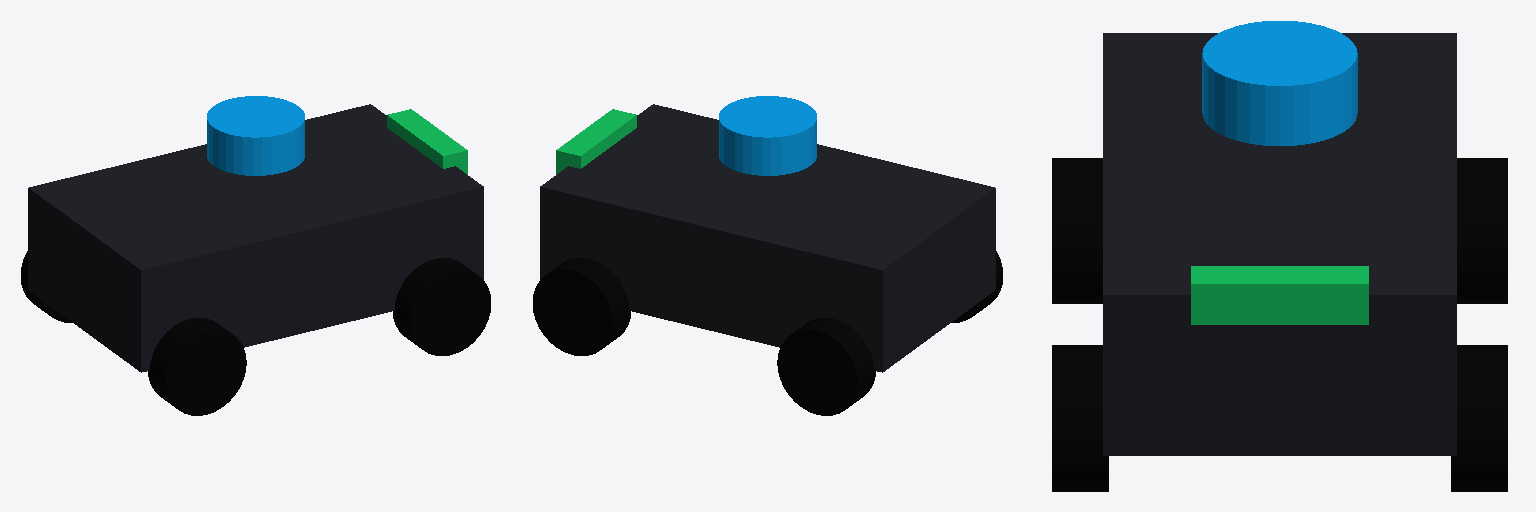
The robot description file, URDF, robot "sulg_robot":
<?xml version="1.0"?>
<robot name="sulg_robot">

  <!-- Base Footprint (Ground Projection) -->
  <link name="base_footprint"/>

  <joint name="base_joint" type="fixed">
    <parent link="base_footprint"/>
    <child link="base_link"/>
    <origin xyz="0 0 0.033" rpy="0 0 0"/>
  </joint>

  <!-- Chassis Body (Base Link centered at rear axle) -->
  <link name="base_link">
    <visual>
      <origin xyz="0.10 0 0.04" rpy="0 0 0"/>
      <geometry>
        <box size="0.28 0.16 0.08"/>
      </geometry>
      <material name="dark_grey">
        <color rgba="0.15 0.15 0.18 1.0"/>
      </material>
    </visual>
    <collision>
      <origin xyz="0.10 0 0.04" rpy="0 0 0"/>
      <geometry>
        <box size="0.28 0.16 0.08"/>
      </geometry>
    </collision>
    <inertial>
      <mass value="1.5"/>
      <origin xyz="0.10 0 0.04" rpy="0 0 0"/>
      <inertia ixx="0.005" ixy="0.0" ixz="0.0" iyy="0.010" iyz="0.0" izz="0.012"/>
    </inertial>
  </link>

  <!-- RPLiDAR C1 Scanner Link -->
  <link name="laser_frame">
    <visual>
      <origin xyz="0 0 0" rpy="0 0 0"/>
      <geometry>
        <cylinder radius="0.035" length="0.03"/>
      </geometry>
      <material name="cyan">
        <color rgba="0.05 0.65 0.95 1.0"/>
      </material>
    </visual>
  </link>

  <joint name="laser_joint" type="fixed">
    <parent link="base_link"/>
    <child link="laser_frame"/>
    <origin xyz="0.10 0 0.12" rpy="3.14159 0 0"/>
  </joint>

  <!-- Camera Link (Front Bumper) -->
  <link name="camera_link">
    <visual>
      <origin xyz="0 0 0" rpy="0 0 0"/>
      <geometry>
        <box size="0.02 0.08 0.02"/>
      </geometry>
      <material name="green">
        <color rgba="0.1 0.8 0.4 1.0"/>
      </material>
    </visual>
  </link>

  <joint name="camera_joint" type="fixed">
    <parent link="base_link"/>
    <child link="camera_link"/>
    <origin xyz="0.24 0 0.08" rpy="0 0 0"/>
  </joint>

  <!-- Rear Left Wheel (Drive) -->
  <link name="rear_left_wheel">
    <visual>
      <geometry>
        <cylinder radius="0.033" length="0.026"/>
      </geometry>
      <material name="black">
        <color rgba="0.05 0.05 0.05 1.0"/>
      </material>
    </visual>
  </link>
  <joint name="rear_left_wheel_joint" type="continuous">
    <parent link="base_link"/>
    <child link="rear_left_wheel"/>
    <origin xyz="0 0.09 0" rpy="-1.5708 0 0"/>
    <axis xyz="0 0 1"/>
  </joint>

  <!-- Rear Right Wheel (Drive) -->
  <link name="rear_right_wheel">
    <visual>
      <geometry>
        <cylinder radius="0.033" length="0.026"/>
      </geometry>
      <material name="black">
        <color rgba="0.05 0.05 0.05 1.0"/>
      </material>
    </visual>
  </link>
  <joint name="rear_right_wheel_joint" type="continuous">
    <parent link="base_link"/>
    <child link="rear_right_wheel"/>
    <origin xyz="0 -0.09 0" rpy="-1.5708 0 0"/>
    <axis xyz="0 0 1"/>
  </joint>

  <!-- Front Left Steering Knuckle & Wheel -->
  <link name="front_left_steer_link"/>
  <joint name="front_left_steer_joint" type="revolute">
    <parent link="base_link"/>
    <child link="front_left_steer_link"/>
    <origin xyz="0.20 0.09 0" rpy="0 0 0"/>
    <axis xyz="0 0 1"/>
    <limit lower="-0.5236" upper="0.5236" effort="5.0" velocity="2.0"/>
  </joint>

  <link name="front_left_wheel">
    <visual>
      <geometry>
        <cylinder radius="0.033" length="0.026"/>
      </geometry>
      <material name="black">
        <color rgba="0.05 0.05 0.05 1.0"/>
      </material>
    </visual>
  </link>
  <joint name="front_left_wheel_joint" type="continuous">
    <parent link="front_left_steer_link"/>
    <child link="front_left_wheel"/>
    <origin xyz="0 0 0" rpy="-1.5708 0 0"/>
    <axis xyz="0 0 1"/>
  </joint>

  <!-- Front Right Steering Knuckle & Wheel -->
  <link name="front_right_steer_link"/>
  <joint name="front_right_steer_joint" type="revolute">
    <parent link="base_link"/>
    <child link="front_right_steer_link"/>
    <origin xyz="0.20 -0.09 0" rpy="0 0 0"/>
    <axis xyz="0 0 1"/>
    <limit lower="-0.5236" upper="0.5236" effort="5.0" velocity="2.0"/>
  </joint>

  <link name="front_right_wheel">
    <visual>
      <geometry>
        <cylinder radius="0.033" length="0.026"/>
      </geometry>
      <material name="black">
        <color rgba="0.05 0.05 0.05 1.0"/>
      </material>
    </visual>
  </link>
  <joint name="front_right_wheel_joint" type="continuous">
    <parent link="front_right_steer_link"/>
    <child link="front_right_wheel"/>
    <origin xyz="0 0 0" rpy="-1.5708 0 0"/>
    <axis xyz="0 0 1"/>
  </joint>

</robot>

--- What the picture shows (computed from the rendered views, not written in the file) ---
The picture shows the robot from 3 angles, left to right: view 1: azimuth 30°, elevation 25°; view 2: azimuth 150°, elevation 25°; view 3: azimuth 270°, elevation 25°; orthographic projection.
Model sulg_robot with 10 links and 9 joints (2 revolute, 4 continuous, 3 fixed), rooted at base_footprint, posed all joints at 0.
Links seen in each view (by area): view 1: base_link, front_right_wheel, rear_right_wheel, laser_frame, camera_link, rear_left_wheel; view 2: base_link, front_left_wheel, rear_left_wheel, laser_frame, camera_link, rear_right_wheel; view 3: base_link, laser_frame, camera_link, front_left_wheel, front_right_wheel, rear_left_wheel, rear_right_wheel.
Boxes of the visible links, bbox=[...] form: base_link: bbox=[28, 104, 483, 372]; front_right_wheel: bbox=[393, 258, 490, 355]; rear_right_wheel: bbox=[148, 318, 246, 415]; laser_frame: bbox=[207, 96, 304, 175]; camera_link: bbox=[387, 109, 467, 174]; rear_left_wheel: bbox=[21, 251, 71, 322]; base_link: bbox=[540, 104, 995, 372]; front_left_wheel: bbox=[533, 258, 630, 355]; rear_left_wheel: bbox=[777, 318, 875, 415]; laser_frame: bbox=[719, 96, 816, 175]; camera_link: bbox=[556, 109, 636, 174]; rear_right_wheel: bbox=[952, 251, 1002, 322]; base_link: bbox=[1103, 33, 1456, 455]; laser_frame: bbox=[1202, 21, 1357, 145]; camera_link: bbox=[1191, 266, 1368, 324]; front_left_wheel: bbox=[1451, 345, 1507, 491]; front_right_wheel: bbox=[1052, 345, 1108, 491]; rear_left_wheel: bbox=[1457, 158, 1507, 303]; rear_right_wheel: bbox=[1052, 158, 1102, 303].
Bounding box of the posed robot: 0.29 × 0.206 × 0.168 m (x, y, z).
Geometry: primitives only (box / cylinder / sphere), no mesh files.
